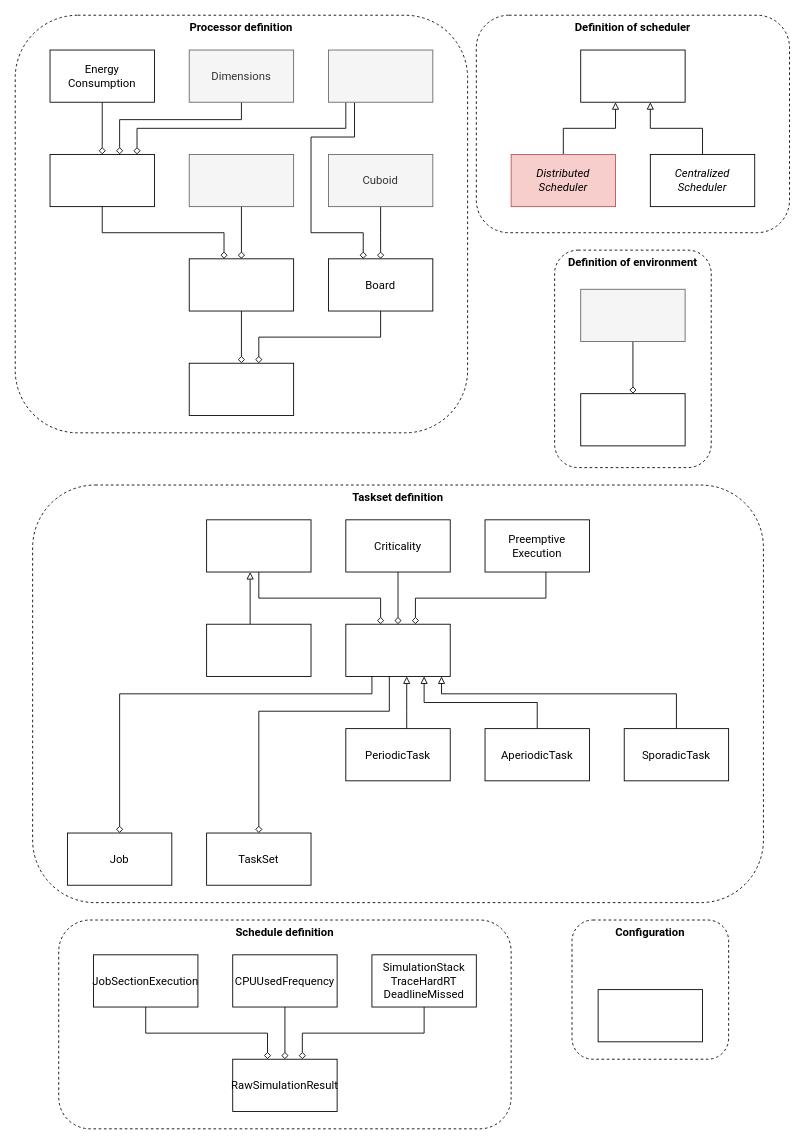
Image size: 805x1144. Some labels were removed from this diagram. Here are the shapes that lost their labels. From the top down, the centre of each, then its label:
At (x=380, y=75): "SolidMaterial".
At (x=632, y=75): "Scheduler".
At (x=101, y=180): "CoreModel".
At (x=241, y=180): "Location".
At (x=241, y=284): "Core".
At (x=632, y=314): "FluidEnvironment".
At (x=241, y=388): "Processor".
At (x=632, y=419): "Environment".
At (x=258, y=545): "ExecutionTime Distribution".
At (x=258, y=649): "ETDAlways WorstCase".
At (x=397, y=649): "Task".
At (x=650, y=1015): "Simulation Configuration".
